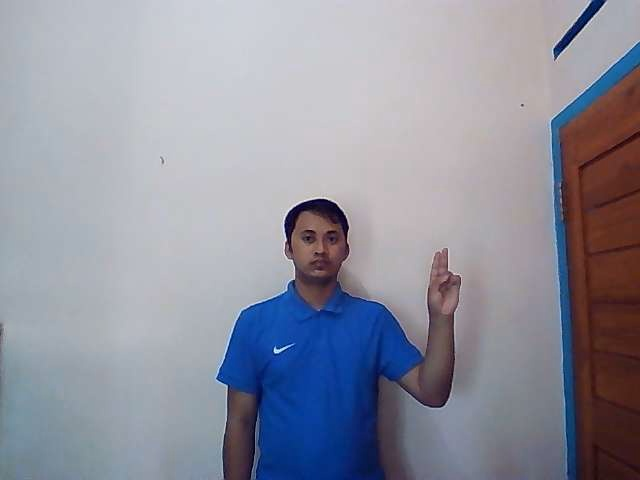U: (426, 248, 462, 316)
